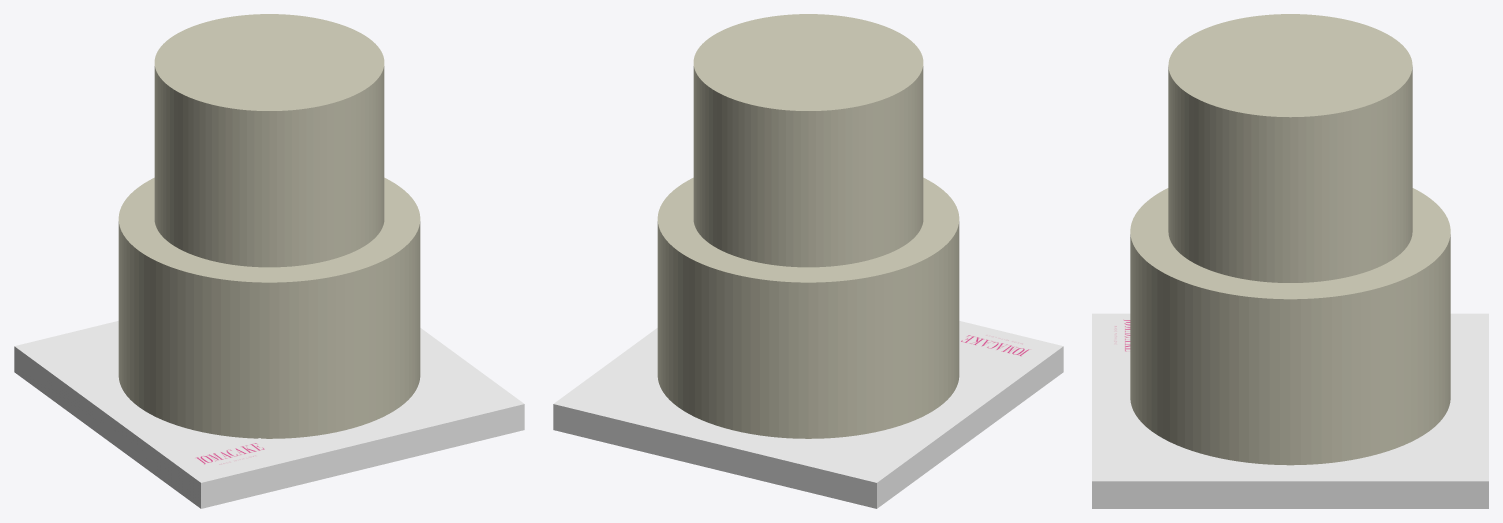
Rendered from cake_tier2_8-6_layers3_v44.glb.
3 renders of one model, left to right at view 1: azimuth 30°, elevation 25°; view 2: azimuth 150°, elevation 25°; view 3: azimuth 270°, elevation 25°, orthographic. The views are drawn at different scales.
Parts seen in each view (by area): view 1: Tier0, Tier1, Board, Logo; view 2: Tier0, Tier1, Board, Logo; view 3: Tier0, Tier1, Board, Logo.
Part boxes in pixels (bbox=[...]): Tier0: bbox=[118, 177, 420, 438]; Tier1: bbox=[154, 14, 384, 267]; Board: bbox=[14, 321, 524, 508]; Logo: bbox=[183, 438, 282, 473]; Tier0: bbox=[657, 177, 959, 438]; Tier1: bbox=[693, 14, 923, 267]; Board: bbox=[553, 321, 1063, 508]; Logo: bbox=[959, 326, 1047, 361]; Tier0: bbox=[1130, 188, 1450, 465]; Tier1: bbox=[1168, 14, 1412, 282]; Board: bbox=[1092, 313, 1488, 508]; Logo: bbox=[1104, 315, 1130, 355].
Size of the model in its own units: 0.26 by 0.26 by 0.26.
